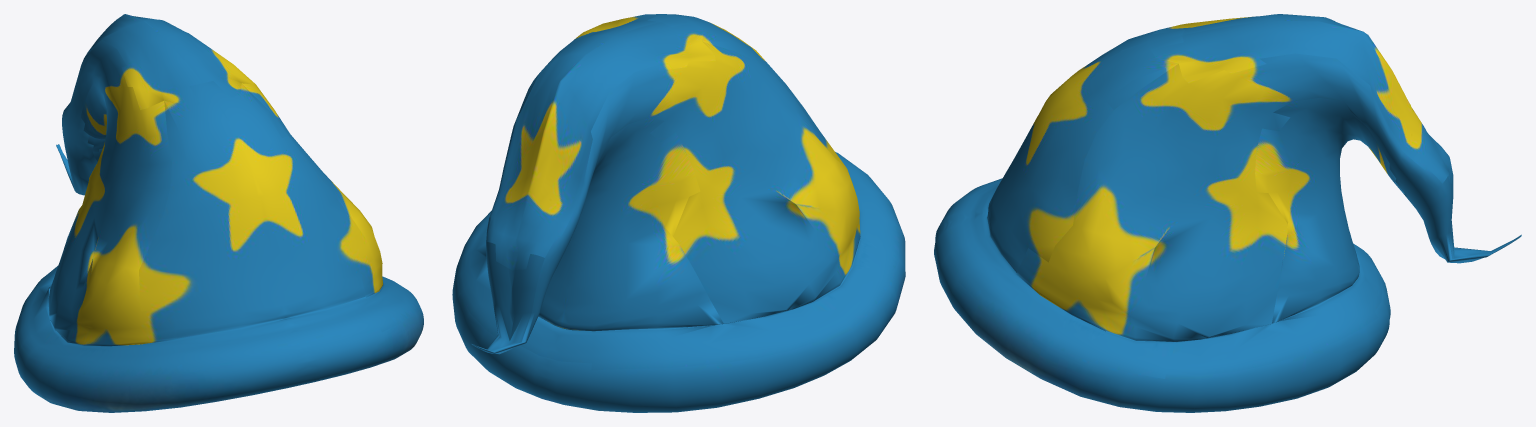
The model's file is Wizard Teal.glb.
The picture shows the model from 3 angles, left to right: view 1: azimuth 30°, elevation 25°; view 2: azimuth 150°, elevation 25°; view 3: azimuth 270°, elevation 25°; orthographic projection. The views are drawn at different scales.
Parts seen in each view (by area): view 1: Wizard Teal; view 2: Wizard Teal; view 3: Wizard Teal.
Part boxes in pixels (x1,y1,x2,y2): Wizard Teal: (14, 14, 423, 412); Wizard Teal: (452, 14, 905, 412); Wizard Teal: (934, 14, 1521, 412).
Bounding box in the file's own units: 0.4899 × 0.3901 × 0.6449.
1 material, 1 textured.
